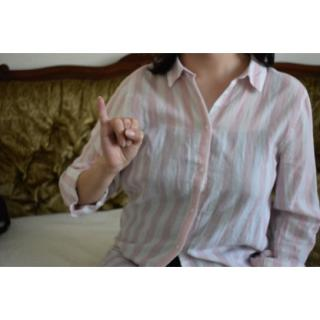MEEM: (95, 92, 147, 173)
